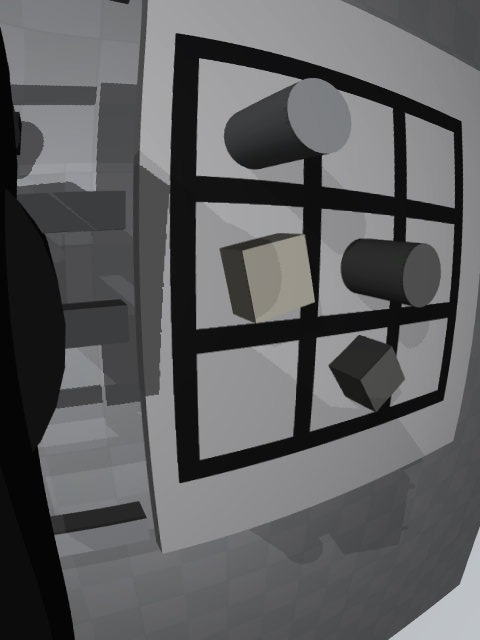can: (224, 78, 352, 170)
cube: (328, 335, 405, 412)
cylinder: (340, 238, 441, 307)
foam: (219, 233, 315, 323)
